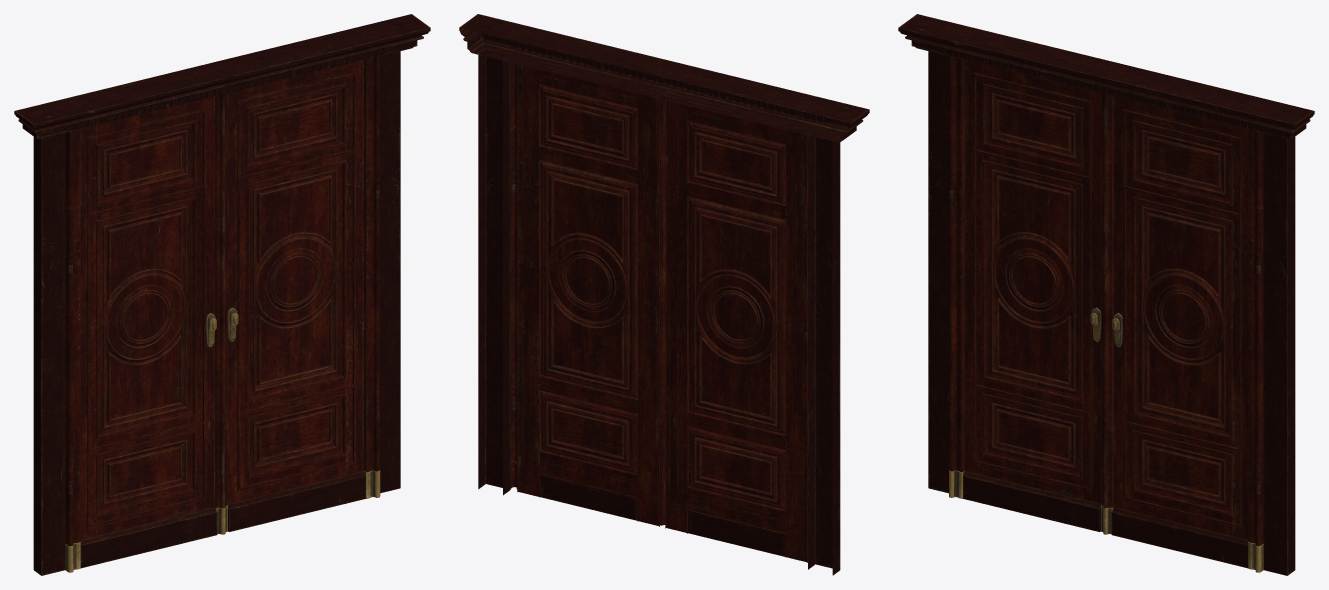
The model's file is door.glb.
3 renders of one model, left to right at view 1: azimuth 30°, elevation 25°; view 2: azimuth 150°, elevation 25°; view 3: azimuth 330°, elevation 25°, orthographic.
Visible parts, largest first — view 1: Mansion Door.001; view 2: Mansion Door.001; view 3: Mansion Door.001.
Boxes of the visible parts, bbox=[...] form: Mansion Door.001: bbox=[14, 14, 430, 575]; Mansion Door.001: bbox=[459, 14, 869, 575]; Mansion Door.001: bbox=[898, 14, 1314, 575].
Size of the model in its own units: 2.21 by 2.46 by 0.1833.
1 material, 1 textured.
